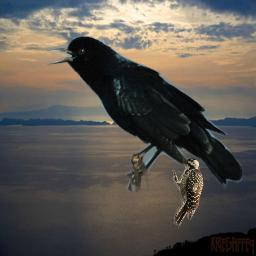Crow: (47, 36, 242, 192)
Woodpecker: (171, 156, 204, 229)
